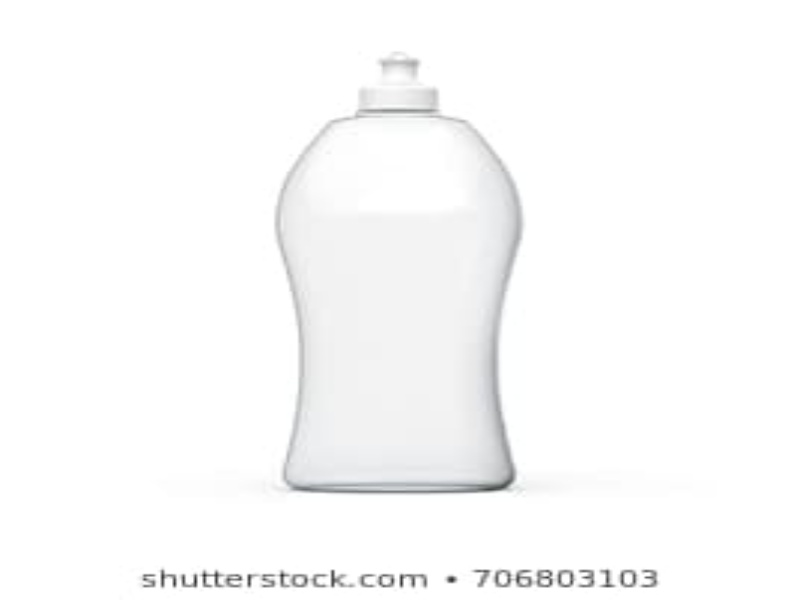detergent-bottle: (267, 49, 551, 496)
